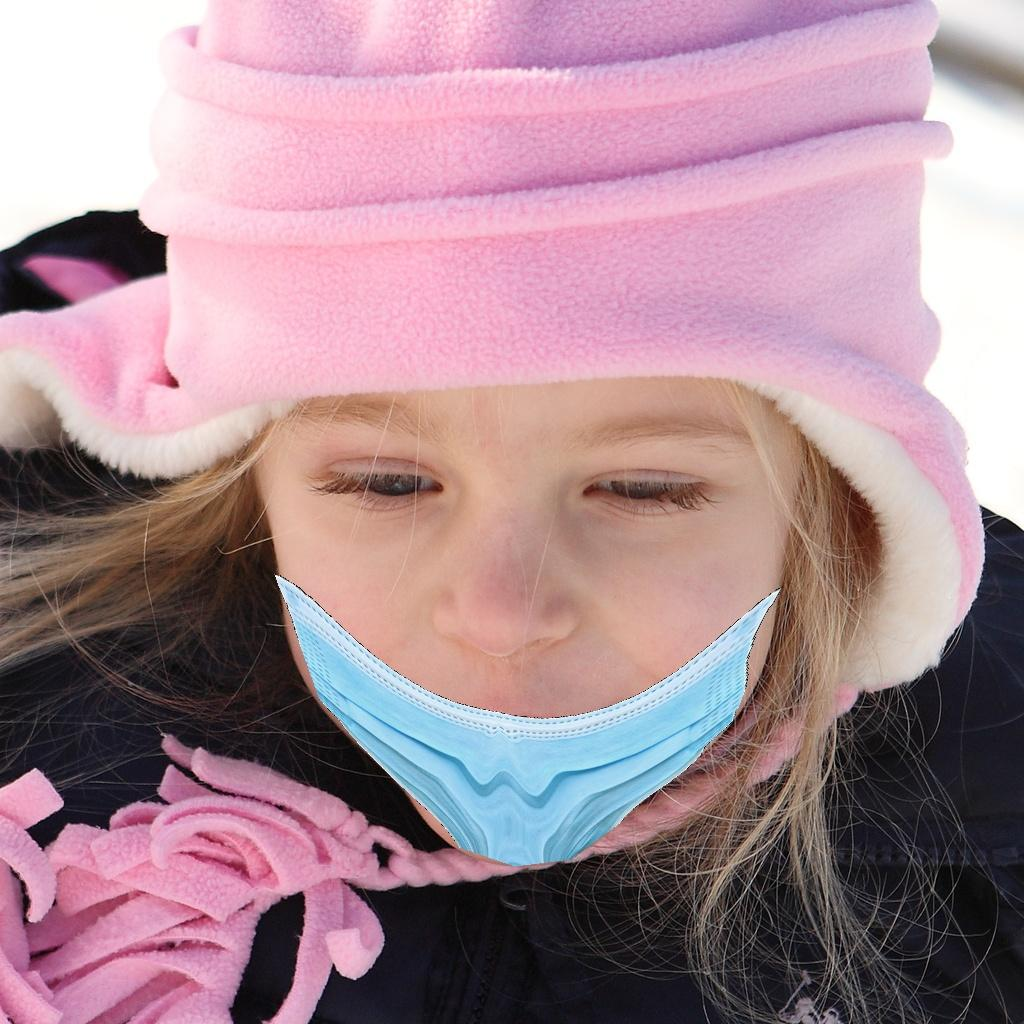Máscara Incorreta: (249, 383, 790, 851)
